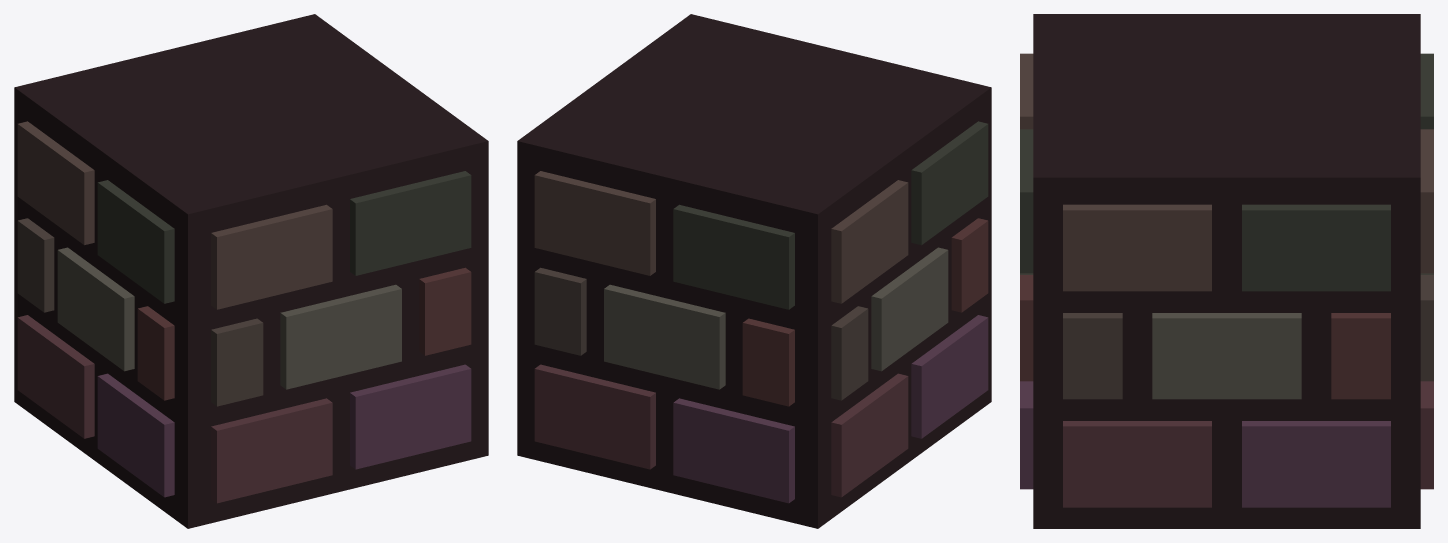
The model's file is bricks.obj.
The picture shows the model from 3 angles, left to right: view 1: azimuth 30°, elevation 25°; view 2: azimuth 150°, elevation 25°; view 3: azimuth 270°, elevation 25°; orthographic projection. The views are drawn at different scales.
Visible parts, largest first — view 1: bricks_Cube.002; view 2: bricks_Cube.002; view 3: bricks_Cube.002.
Boxes of the visible parts, box(x1,y1,x2,y2) form: bricks_Cube.002: box(14, 14, 488, 528); bricks_Cube.002: box(517, 14, 991, 528); bricks_Cube.002: box(1020, 14, 1433, 528).
Size of the model in its own units: 0.989 by 0.9261 by 0.989.
